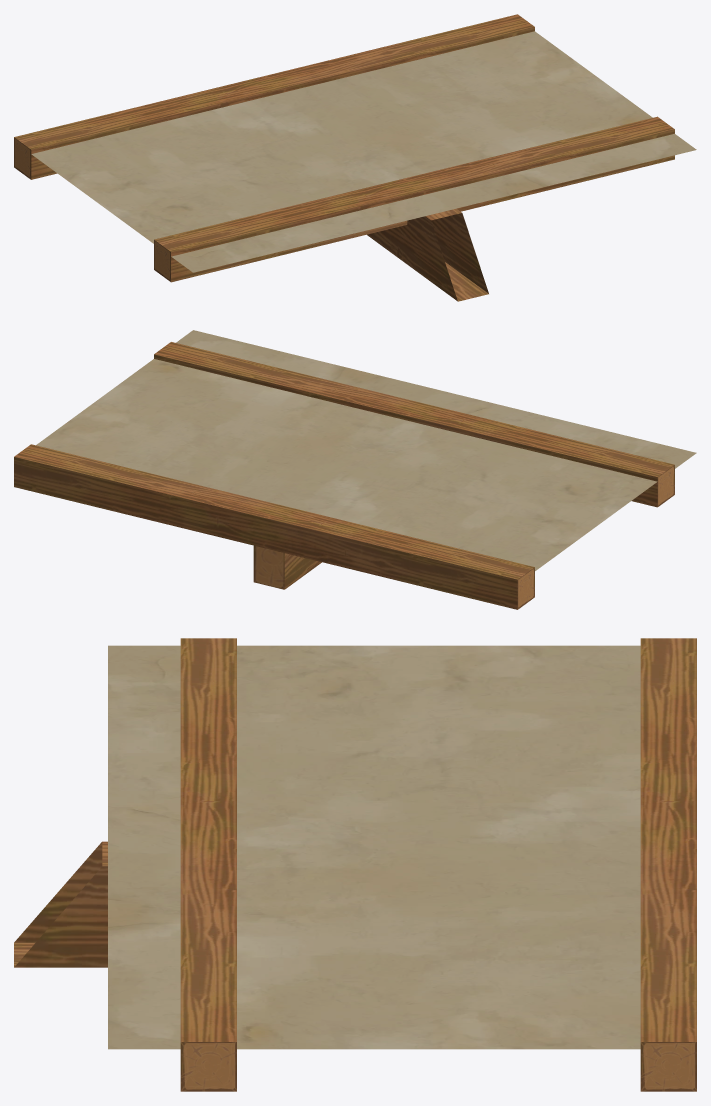
File: Overhang_RoofIncline_Plaster.gltf
The picture shows the model from 3 angles, top to bottom: view 1: azimuth 30°, elevation 25°; view 2: azimuth 150°, elevation 25°; view 3: azimuth 270°, elevation 25°; orthographic projection. The views are drawn at different scales.
Visible parts, largest first — view 1: Overhang_RoofIncline_Plaster; view 2: Overhang_RoofIncline_Plaster; view 3: Overhang_RoofIncline_Plaster.
Boxes of the visible parts, bbox=[...] form: Overhang_RoofIncline_Plaster: bbox=[14, 14, 696, 301]; Overhang_RoofIncline_Plaster: bbox=[14, 330, 696, 609]; Overhang_RoofIncline_Plaster: bbox=[14, 638, 696, 1091].
Size of the model in its own units: 2 by 0.2659 by 1.43.
2 materials, 2 textured.
